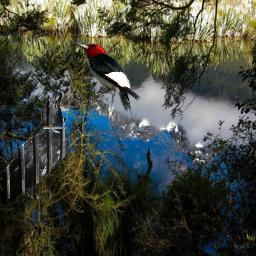Crow: (3, 90, 67, 199)
Woodpecker: (74, 42, 142, 116)
